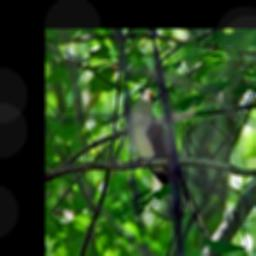Cuckoo: (126, 86, 217, 242)
